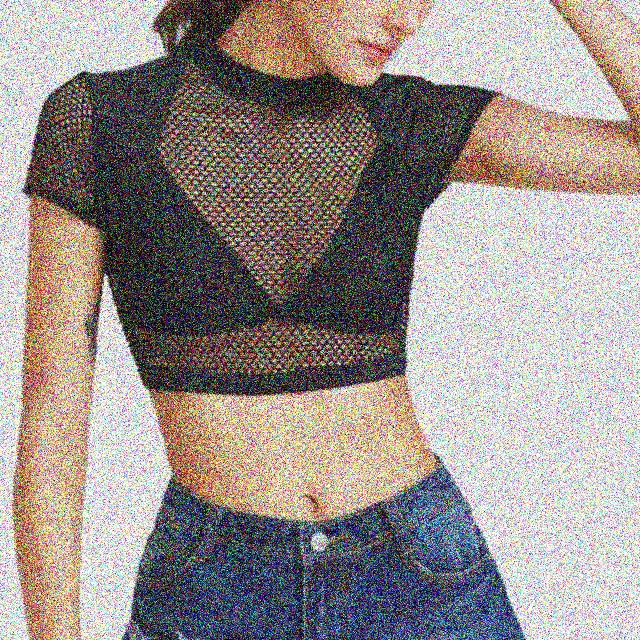Crop_Top: (118, 306, 438, 524)
low_neckline: (109, 56, 419, 335)
